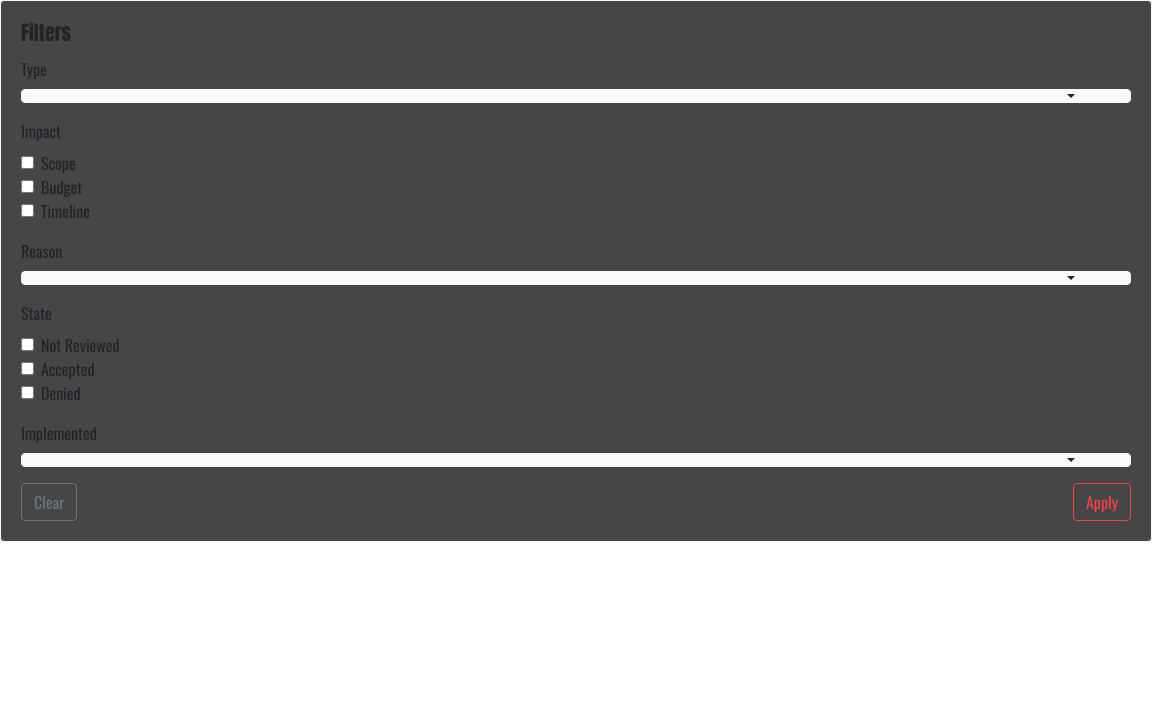
Test: change requests table filter component › checking if data in the reason dropdown menu is correct
The width and height of the screenshot is (1152, 720).
Expected: the text "None" is not shown
Expected: the text "ESTIMATION" is not shown
Click the button with test id "reason-toggle" at [576, 278], box x1=21 y1=271 x2=1131 y2=285
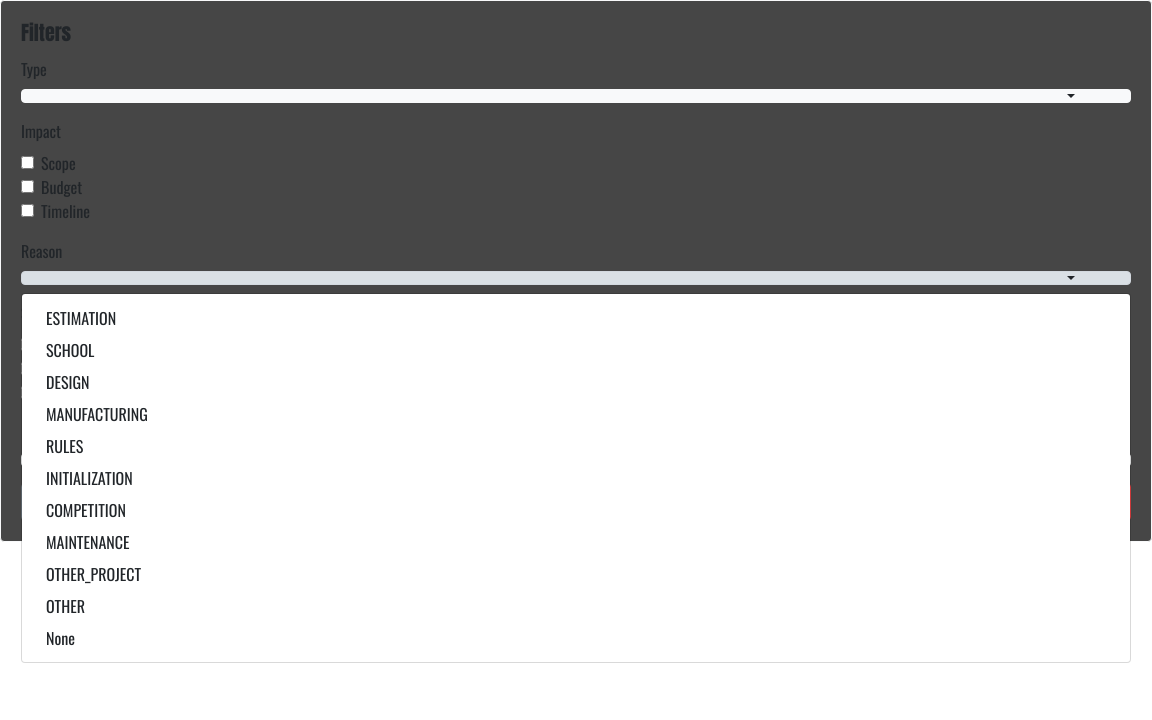
Expected: the button "None" is shown, x1=46 y1=626 x2=75 y2=650
Expected: the button "ESTIMATION" is shown, x1=46 y1=306 x2=116 y2=330
Expected: the button "SCHOOL" is shown, x1=46 y1=338 x2=94 y2=362
